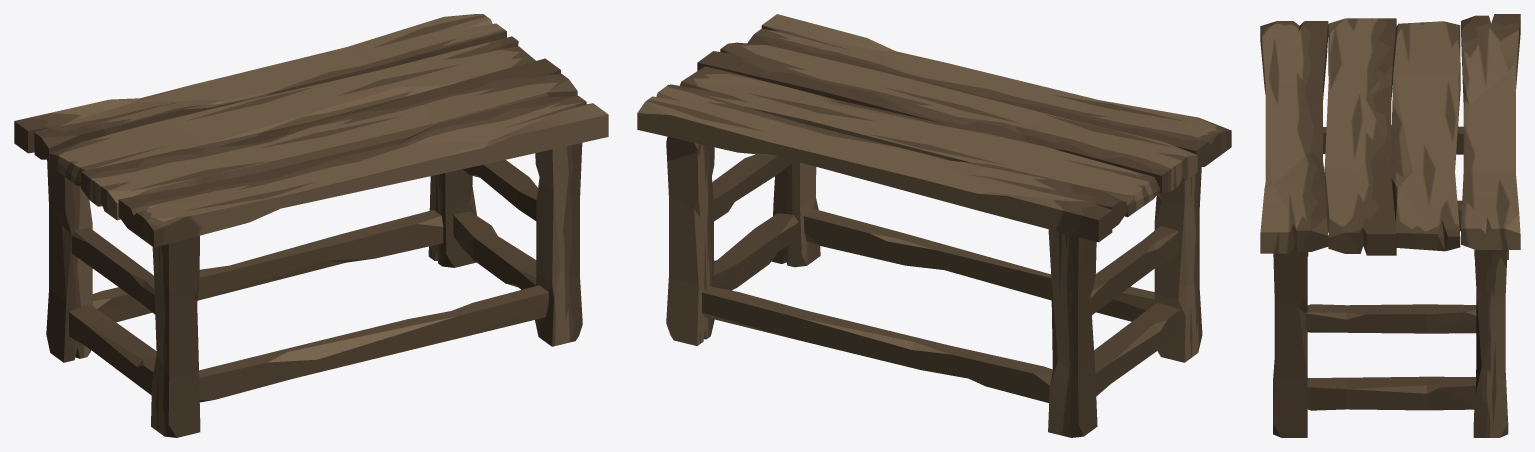
The model's file is table.gltf.
The picture shows the model from 3 angles, left to right: view 1: azimuth 30°, elevation 25°; view 2: azimuth 150°, elevation 25°; view 3: azimuth 270°, elevation 25°; orthographic projection. The views are drawn at different scales.
Visible parts, largest first — view 1: table; view 2: table; view 3: table.
Part boxes in pixels (<box>): table: <box>14,14,608,437</box>; table: <box>637,14,1231,437</box>; table: <box>1260,14,1520,437</box>.
Bounding box in the file's own units: 2.02 × 0.9524 × 1.02.
Materials: 1 (1 with a texture image).
